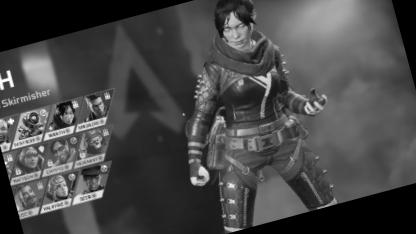Target: (176, 0, 310, 195)
